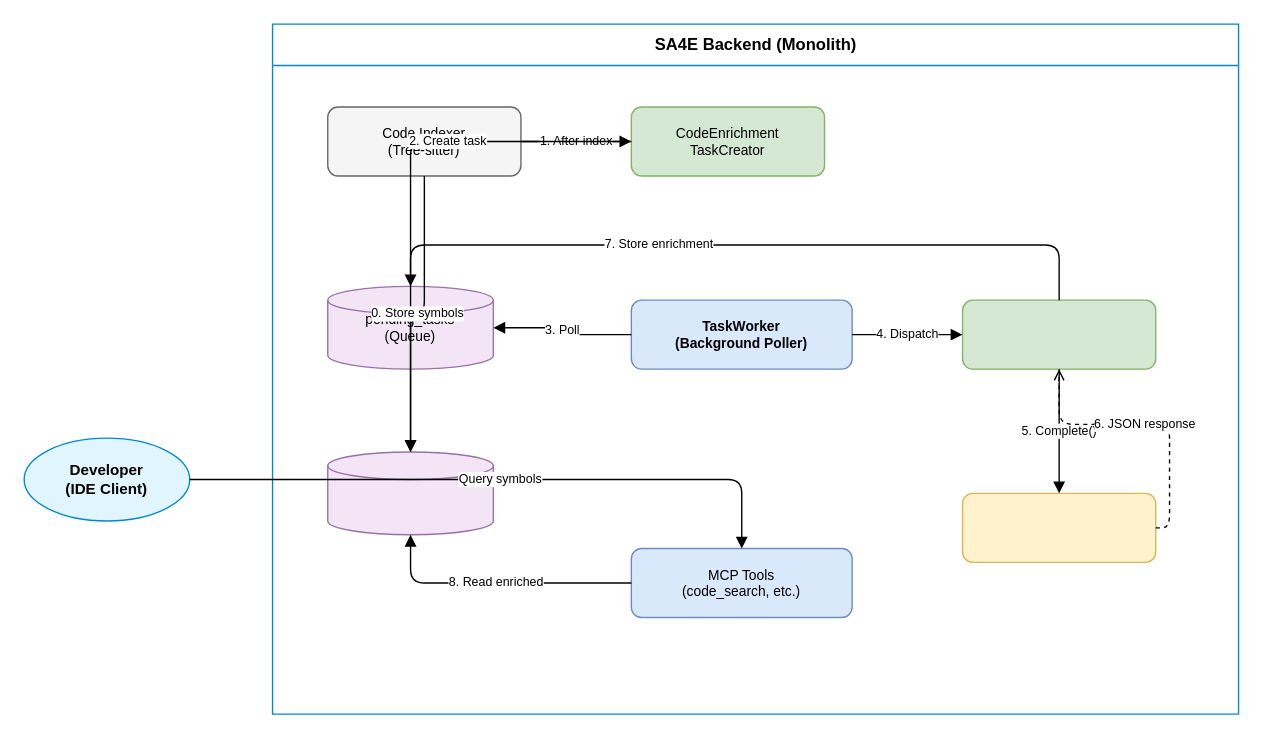
Some shapes in this 1263 by 738 pixel diagram are drawn without their labels. Here are the shapes that lost their labels. From the top down, the centre of each, then its label:
At pixel 1058 334: "CodeEnrichment Handler".
At pixel 409 493: "symbols (SQLite/PG)".
At pixel 1058 527: "LLMService (Ollama/OpenAI)".
